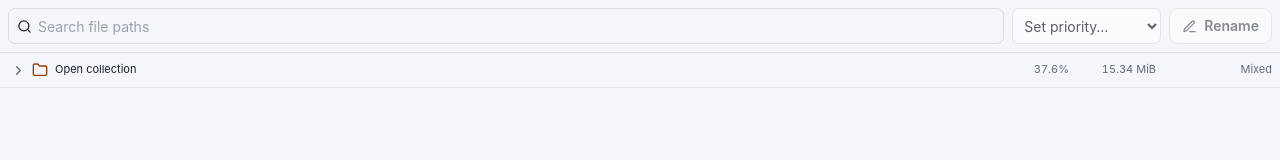
Test: torrent details › selects files and folders and sends all descendant indexes at the chosen priority
Click the list item "Open collection 37.6% 15.34 MiB Mixed" at (640, 70), box [0, 53, 1279, 88]
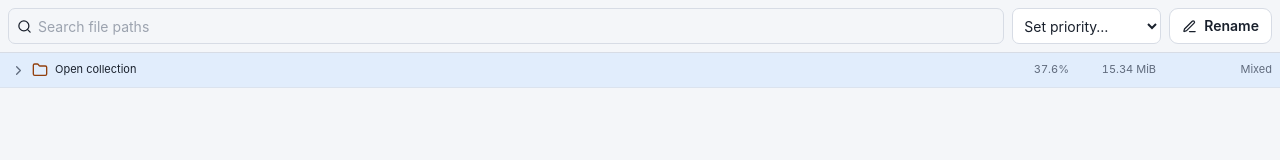
Expected: the dropdown named "Set selected file priority" is enabled
Select "Maximum" in the dropdown named "Set selected file priority" at (1087, 26), box [1012, 8, 1161, 44]
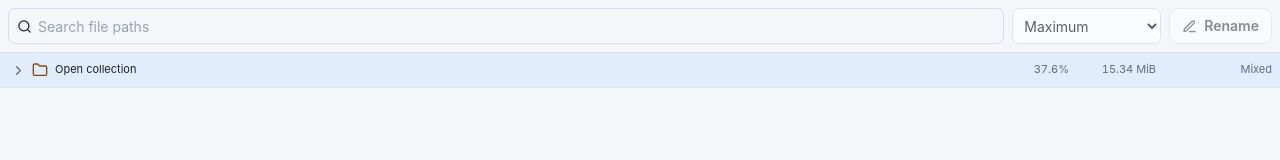
Expected: the dropdown named "Set selected file priority" is disabled
Select "High" in the dropdown named "Set selected file priority" at (1087, 26), box [1012, 8, 1161, 44]
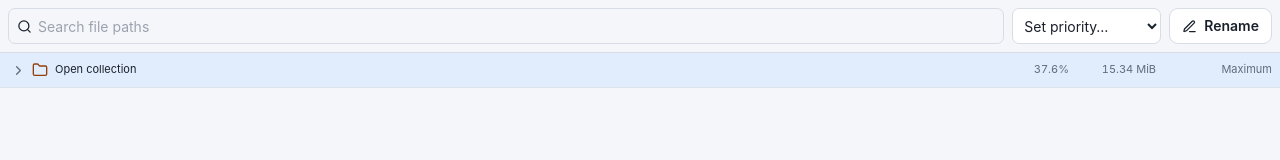
Expected: the text "Maximum" is shown, [1221, 62, 1272, 76]
